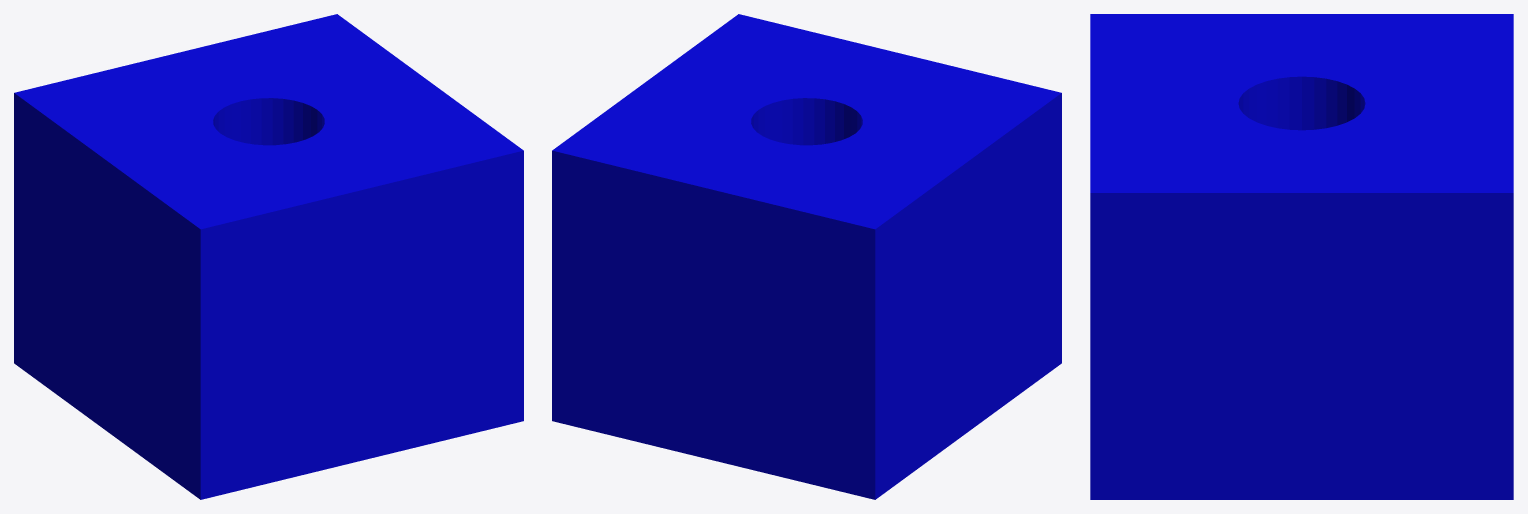
The model's file is insert_task_block1.dae.
3 renders of one model, left to right at view 1: azimuth 30°, elevation 25°; view 2: azimuth 150°, elevation 25°; view 3: azimuth 270°, elevation 25°, orthographic. The views are drawn at different scales.
Parts seen in each view (by area): view 1: Cube; view 2: Cube; view 3: Cube.
Boxes of the visible parts, x1,y1,x2,y2 form: Cube: (14, 14, 523, 499); Cube: (552, 14, 1061, 499); Cube: (1090, 14, 1513, 499).
Size of the model in its own units: 0.2 by 0.2 by 0.16.
